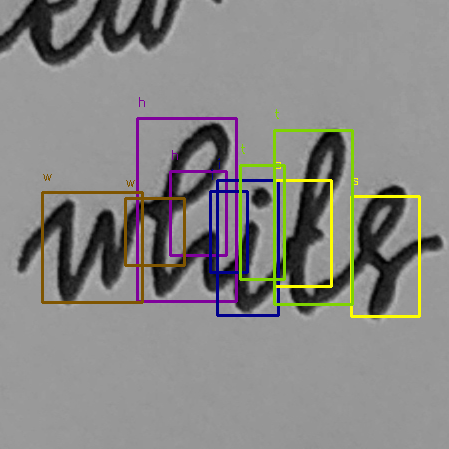h: (147, 119, 231, 299)
i: (225, 179, 277, 317)
s: (352, 180, 420, 326)
t: (281, 122, 349, 317)
w: (45, 190, 145, 308)
